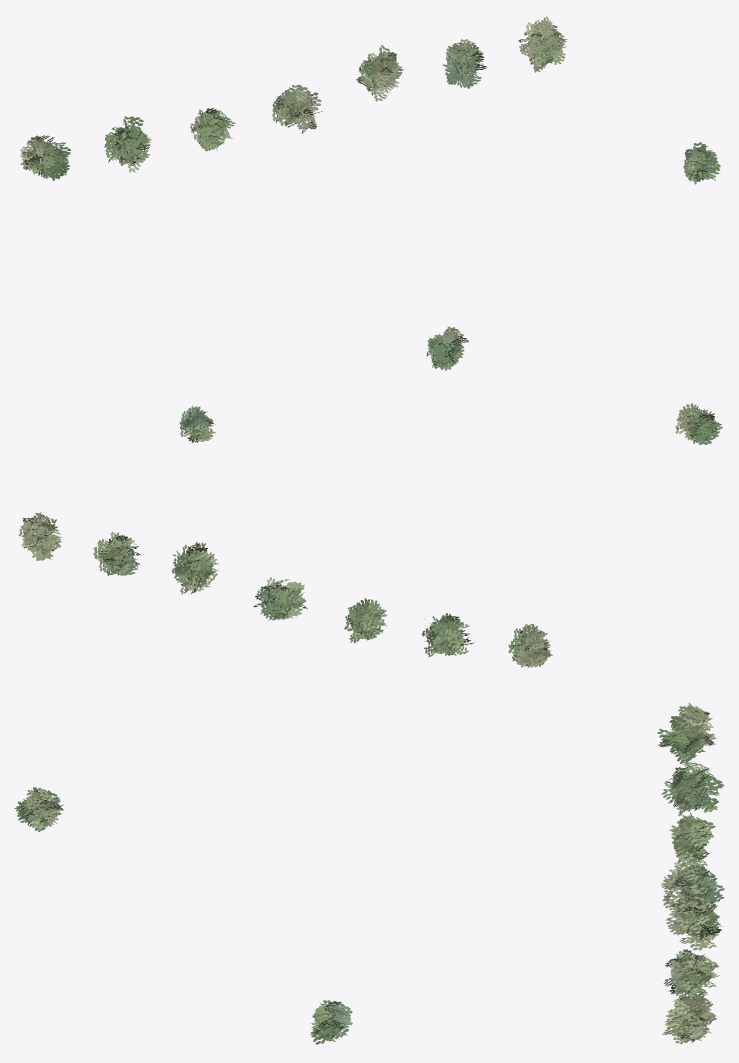
File: campus-tree--5_-4-far.glb
3 renders of one model, top to bottom at view 1: azimuth 30°, elevation 25°; view 2: azimuth 150°, elevation 25°; view 3: azimuth 270°, elevation 25°, orthographic. The views are drawn at different scales.
Parts seen in each view (by area): view 1: Campus leaf canopy; view 2: Campus leaf canopy; view 3: Campus leaf canopy.
Boxes of the visible parts, <box> form: Campus leaf canopy: <box>20,16,720,370</box>; Campus leaf canopy: <box>18,403,722,667</box>; Campus leaf canopy: <box>14,703,724,1044</box>.
Bounding box in the file's own units: 72.98 × 7.92 × 72.71.
1 material, 1 textured.
